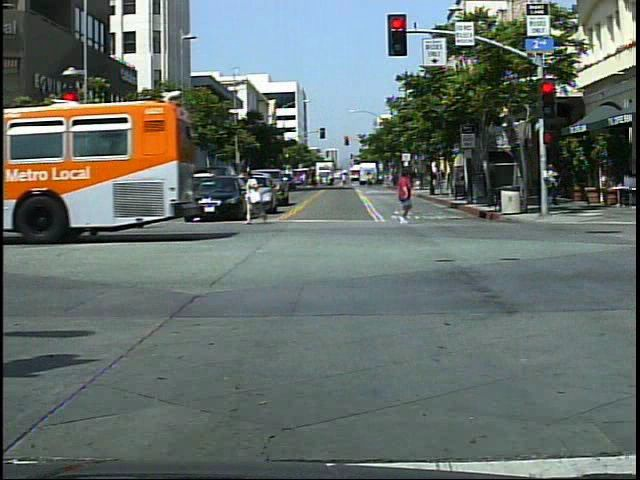person: (129, 169, 160, 236), (241, 166, 272, 230), (391, 166, 420, 230), (546, 162, 568, 213)
